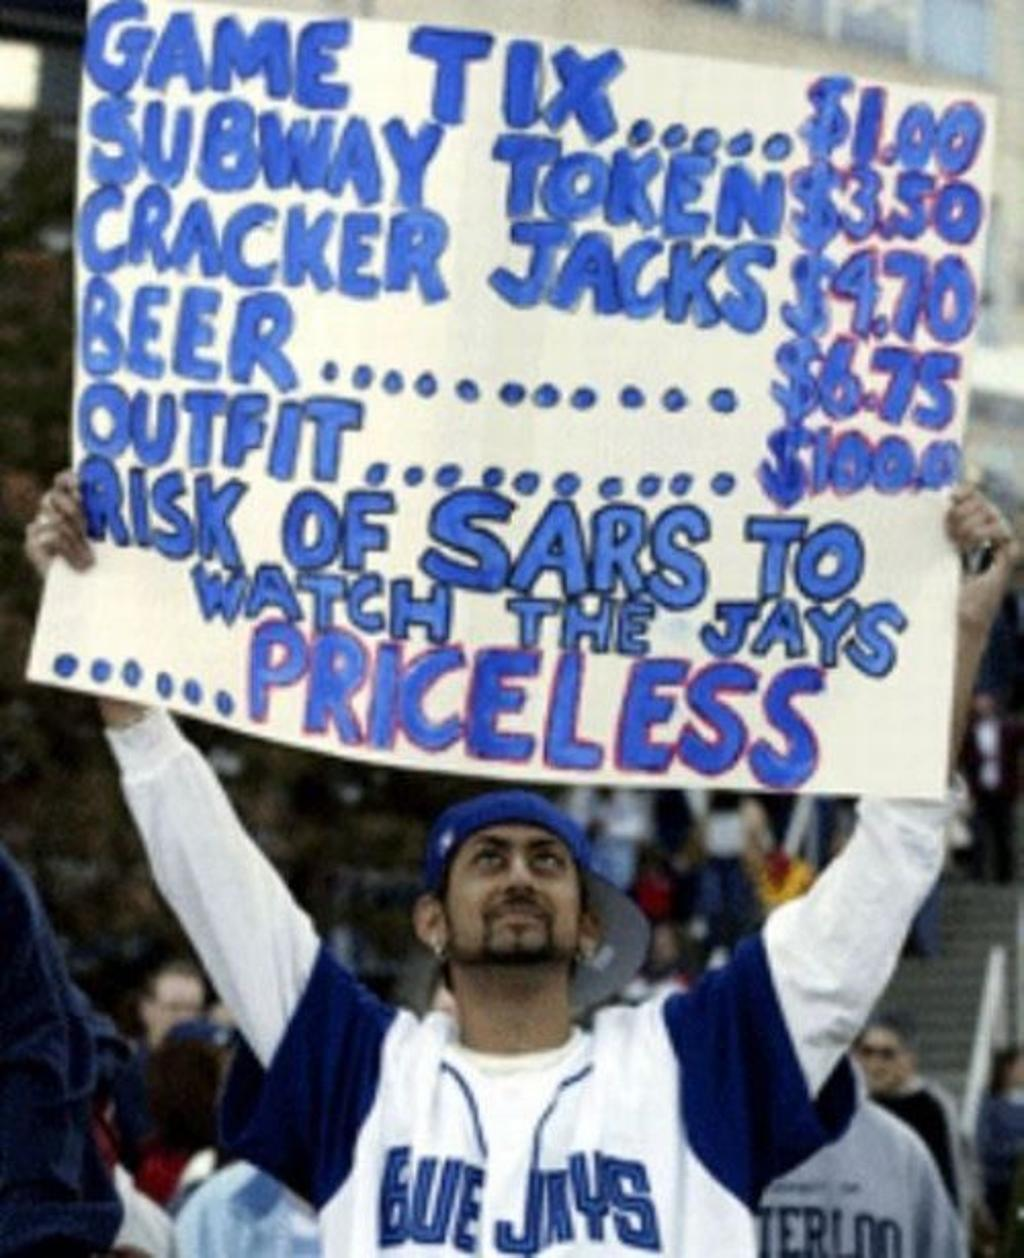face: (447, 820, 582, 962)
